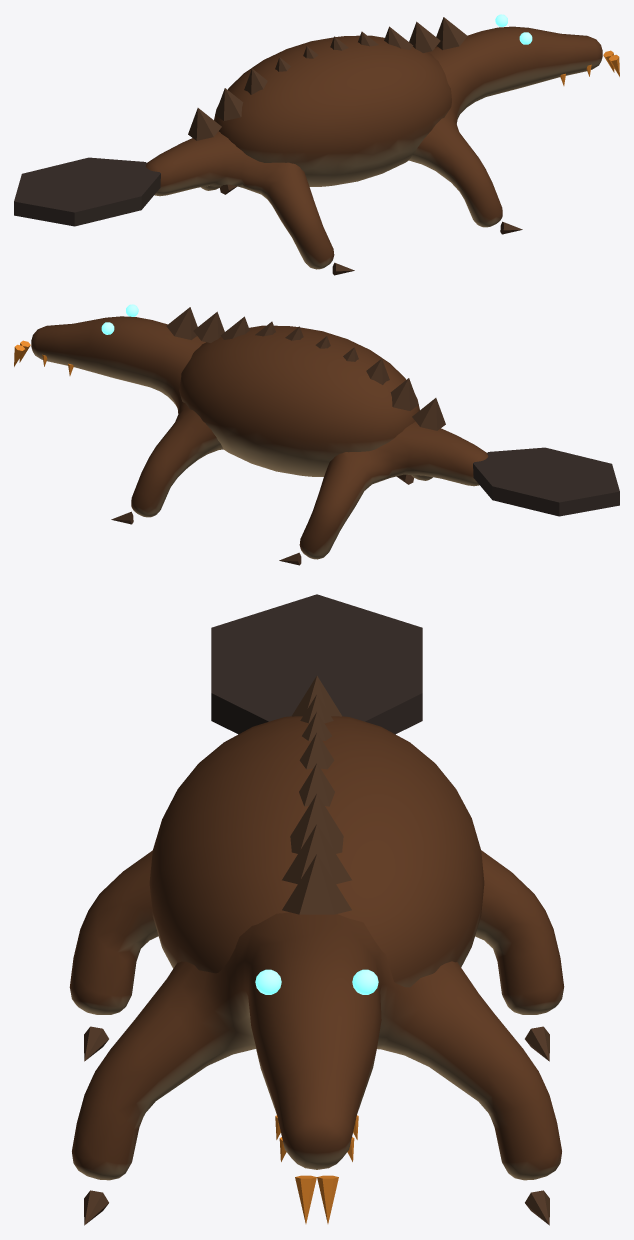
Rendered from afanc.glb.
3 views of the same model, one above another, from view 1: azimuth 30°, elevation 25°; view 2: azimuth 150°, elevation 25°; view 3: azimuth 270°, elevation 25° (orthographic). The views are drawn at different scales.
Parts seen in each view (by area): view 1: afanc.001; view 2: afanc.001; view 3: afanc.001.
Boxes of the visible parts, <box> form: afanc.001: <box>14,14,619,275</box>; afanc.001: <box>14,304,619,565</box>; afanc.001: <box>69,594,564,1225</box>.
Size of the model in its own units: 3.16 by 0.9235 by 1.12.
